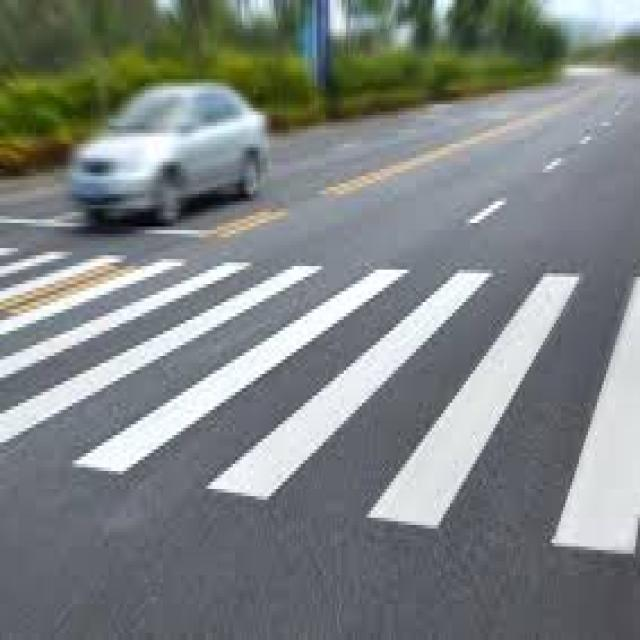Crosswalk: (0, 242, 640, 556)
